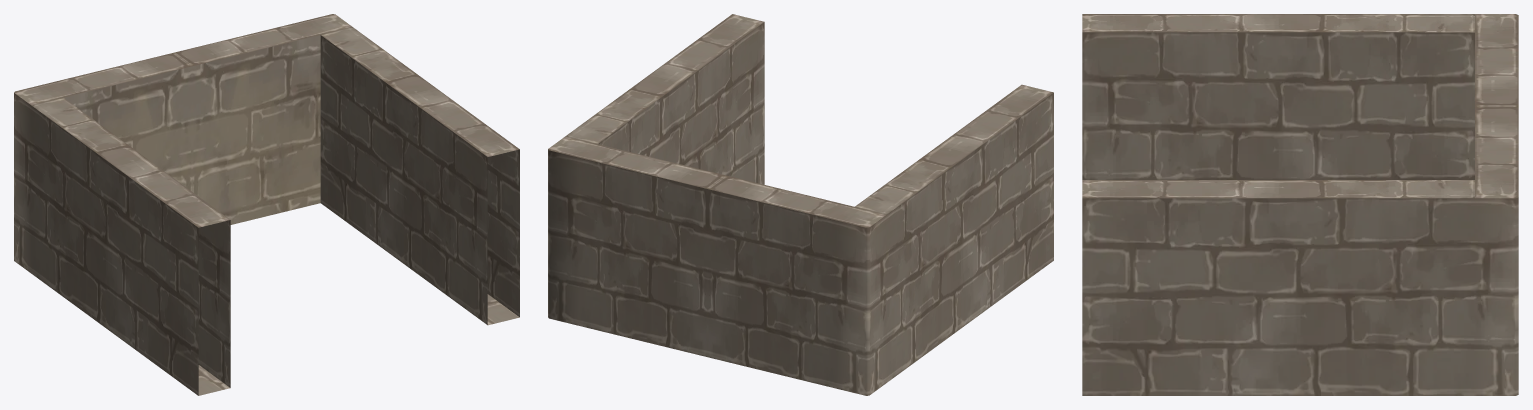
File: stairs_exterior_sidesu.glb
3 renders of one model, left to right at view 1: azimuth 30°, elevation 25°; view 2: azimuth 150°, elevation 25°; view 3: azimuth 270°, elevation 25°, orthographic. The views are drawn at different scales.
Size of the model in its own units: 2 by 0.9999 by 2.
Materials: 1 (1 with a texture image).
